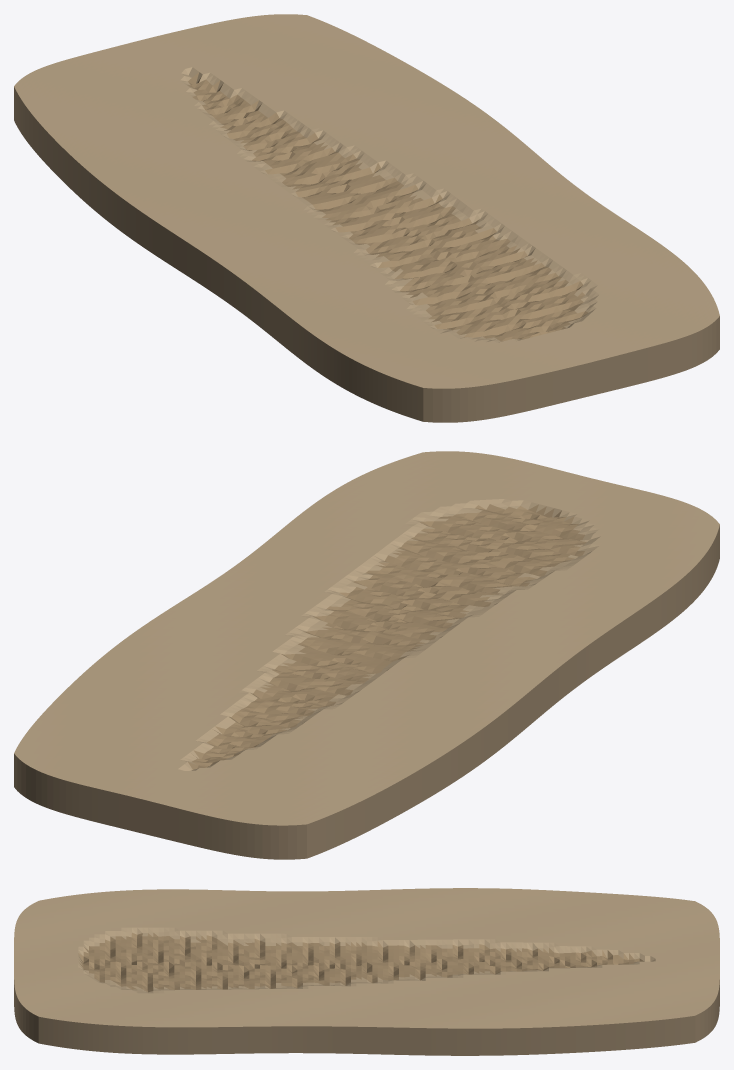
3 renders of one model, top to bottom at view 1: azimuth 30°, elevation 25°; view 2: azimuth 150°, elevation 25°; view 3: azimuth 270°, elevation 25°, orthographic. The views are drawn at different scales.
Visible parts, largest first — view 1: Charnia_masoni_fossil_impression_BGS_GSM105873_informed_not_; view 2: Charnia_masoni_fossil_impression_BGS_GSM105873_informed_not_; view 3: Charnia_masoni_fossil_impression_BGS_GSM105873_informed_not_.
Part boxes in pixels (x1=…): Charnia_masoni_fossil_impression_BGS_GSM105873_informed_not_: x1=14, y1=14, x2=719, y2=422; Charnia_masoni_fossil_impression_BGS_GSM105873_informed_not_: x1=14, y1=451, x2=719, y2=859; Charnia_masoni_fossil_impression_BGS_GSM105873_informed_not_: x1=14, y1=888, x2=719, y2=1055.
Bounding box in the file's own units: 0.1223 × 0.0111 × 0.26.
